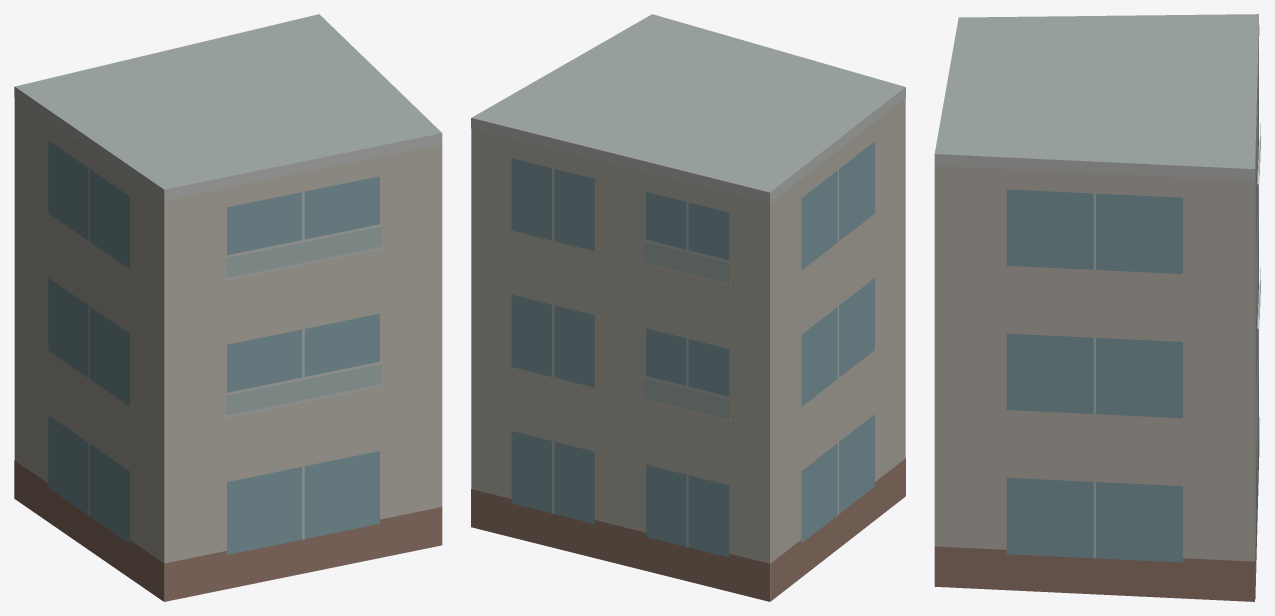
File: survey-upis-32459457.glb
3 views of the same model, side by side, from view 1: azimuth 30°, elevation 25°; view 2: azimuth 150°, elevation 25°; view 3: azimuth 270°, elevation 25° (orthographic). The views are drawn at different scales.
Parts seen in each view (by area): view 1: survey-upis-32459457.tmp; view 2: survey-upis-32459457.tmp; view 3: survey-upis-32459457.tmp.
Part boxes in pixels (left/top/right/bottom): survey-upis-32459457.tmp: left=14, top=14, right=442, bottom=601; survey-upis-32459457.tmp: left=471, top=14, right=905, bottom=601; survey-upis-32459457.tmp: left=934, top=14, right=1260, bottom=601.
Bounding box in the file's own units: 7.05 × 9.15 × 6.26.
